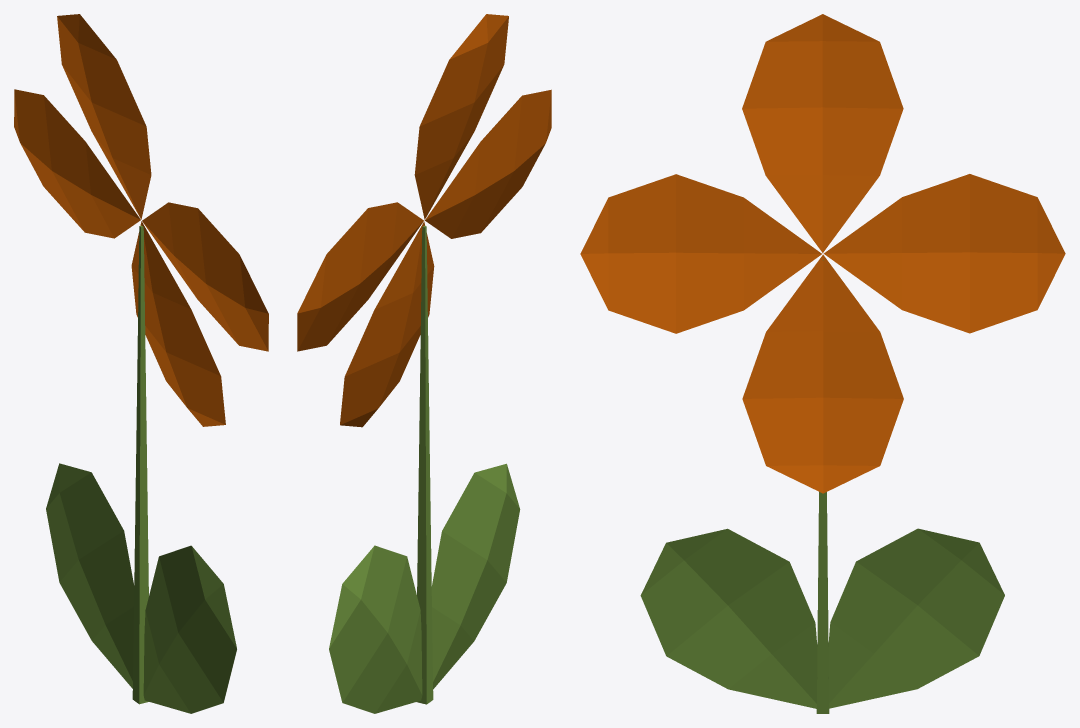
The model's file is orangeflower.fbx.
3 views of the same model, side by side, from view 1: azimuth 30°, elevation 25°; view 2: azimuth 150°, elevation 25°; view 3: azimuth 270°, elevation 25° (orthographic). The views are drawn at different scales.
Parts seen in each view (by area): view 1: Cube; view 2: Cube; view 3: Cube.
Part boxes in pixels (box(x1,y1,x2,y2)): Cube: box(14, 14, 268, 713); Cube: box(297, 14, 551, 713); Cube: box(580, 14, 1065, 713).
Size of the model in its own units: 170 by 913 by 601.
